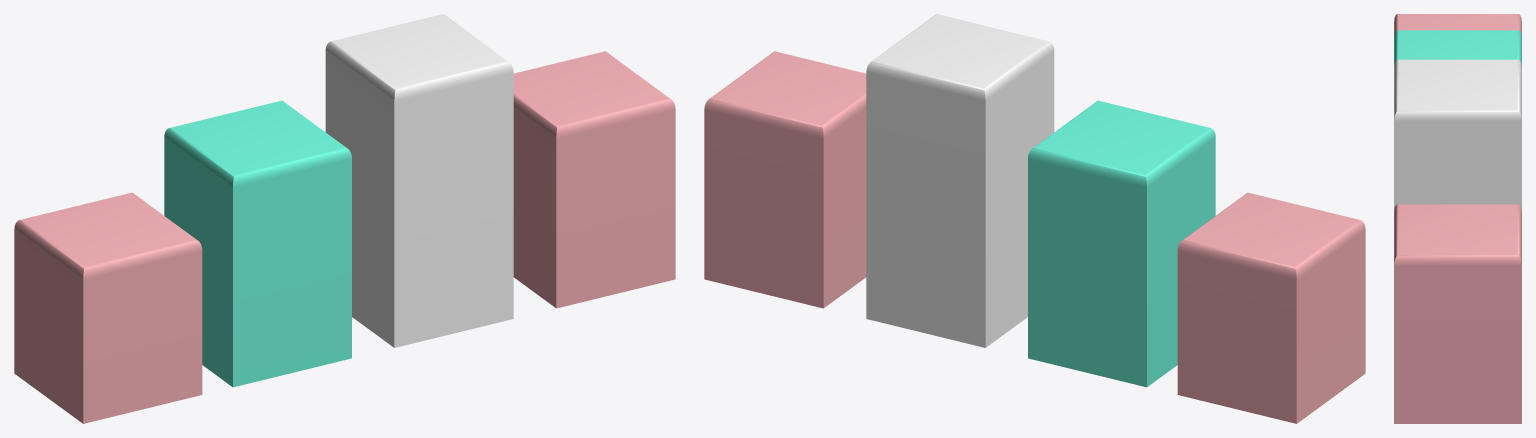
Rendered from stats.glb.
The picture shows the model from 3 angles, left to right: view 1: azimuth 30°, elevation 25°; view 2: azimuth 150°, elevation 25°; view 3: azimuth 270°, elevation 25°; orthographic projection. The views are drawn at different scales.
Visible parts, largest first — view 1: Cube.002, Cube.003, Cube.005, Cube.001; view 2: Cube.002, Cube.003, Cube.005, Cube.001; view 3: Cube.001, Cube.002, Cube.003, Cube.005.
Boxes of the visible parts, x1,y1,x2,y2 form: Cube.002: (325,14,513,347); Cube.003: (164,100,351,387); Cube.005: (14,192,202,423); Cube.001: (513,51,675,308); Cube.002: (866,14,1054,347); Cube.003: (1028,100,1215,387); Cube.005: (1177,192,1365,423); Cube.001: (704,51,866,308); Cube.001: (1394,204,1521,423); Cube.002: (1394,59,1521,210); Cube.003: (1394,30,1521,66); Cube.005: (1394,14,1521,36).
Size of the model in its own units: 3.14 by 1.3 by 0.6323.
